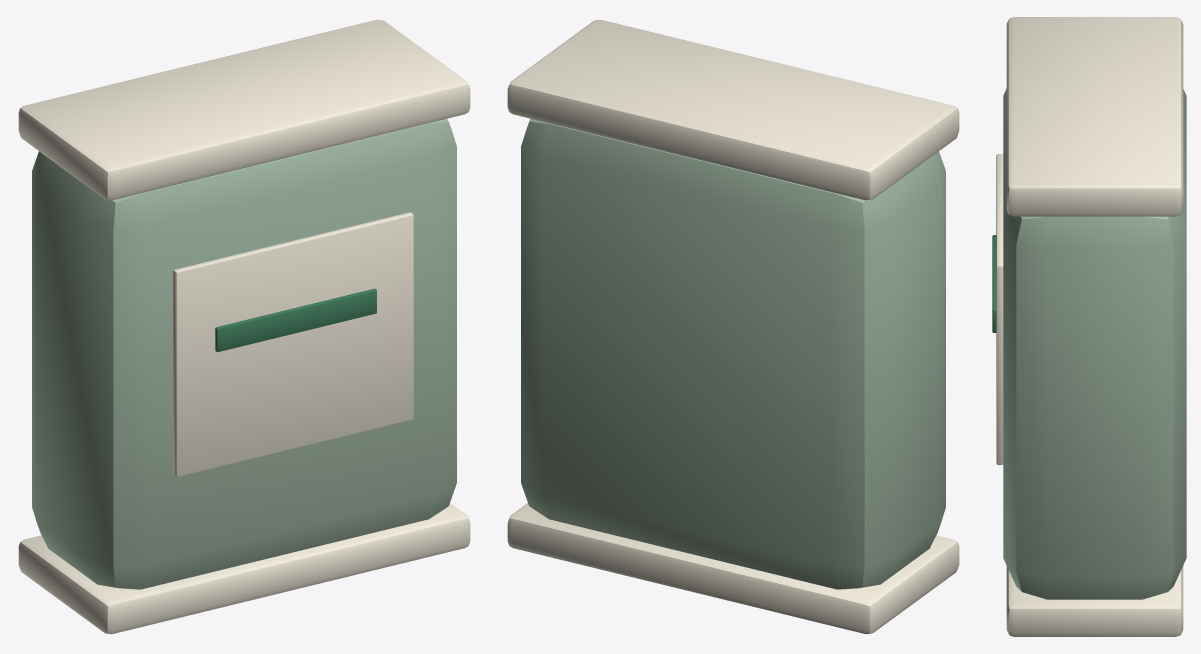
The model's file is checkout_product_snack_pouch.glb.
The picture shows the model from 3 angles, left to right: view 1: azimuth 30°, elevation 25°; view 2: azimuth 150°, elevation 25°; view 3: azimuth 270°, elevation 25°; orthographic projection. The views are drawn at different scales.
Visible parts, largest first — view 1: SnackPouchBody, SnackPouchLabel, SnackPouchTopCrimp, SnackPouchBottomCrimp, SnackPouchCourseStripe; view 2: SnackPouchBody, SnackPouchTopCrimp, SnackPouchBottomCrimp; view 3: SnackPouchBody, SnackPouchTopCrimp, SnackPouchBottomCrimp, SnackPouchLabel, SnackPouchCourseStripe.
Part boxes in pixels (box(x1,y1,x2,y2)): SnackPouchBody: box(32, 119, 456, 589); SnackPouchLabel: box(173, 212, 413, 477); SnackPouchTopCrimp: box(18, 19, 470, 200); SnackPouchBottomCrimp: box(18, 503, 470, 634); SnackPouchCourseStripe: box(215, 288, 376, 351); SnackPouchBody: box(521, 119, 945, 589); SnackPouchTopCrimp: box(507, 19, 959, 200); SnackPouchBottomCrimp: box(507, 503, 959, 634); SnackPouchBody: box(1003, 89, 1186, 599); SnackPouchTopCrimp: box(1006, 17, 1183, 216); SnackPouchBottomCrimp: box(1006, 566, 1183, 636); SnackPouchLabel: box(996, 154, 1003, 464); SnackPouchCourseStripe: box(992, 235, 996, 332).
Bounding box in the file's own units: 0.16 × 0.195 × 0.0758.
